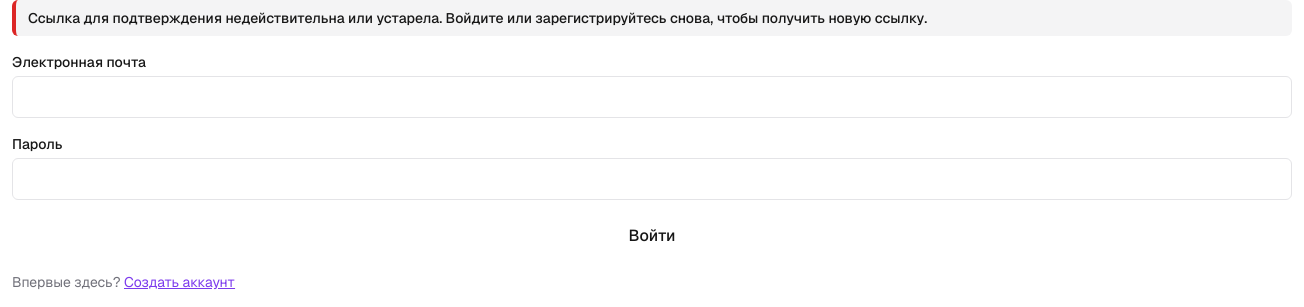
Test: SignInForm › shows the initial error until the first submission replaces it
The width and height of the screenshot is (1304, 307).
Expected: the message shows "Ссылка для подтверждения недействительна или устарела. Войдите или зарегистрируйтесь снова, чтобы получить новую ссылку.", [28, 9, 927, 27]
Type "reader@example.com" into the field labelled "Электронная почта".
click(652, 97); type("reader@example.com")  # box [12, 76, 1292, 118]
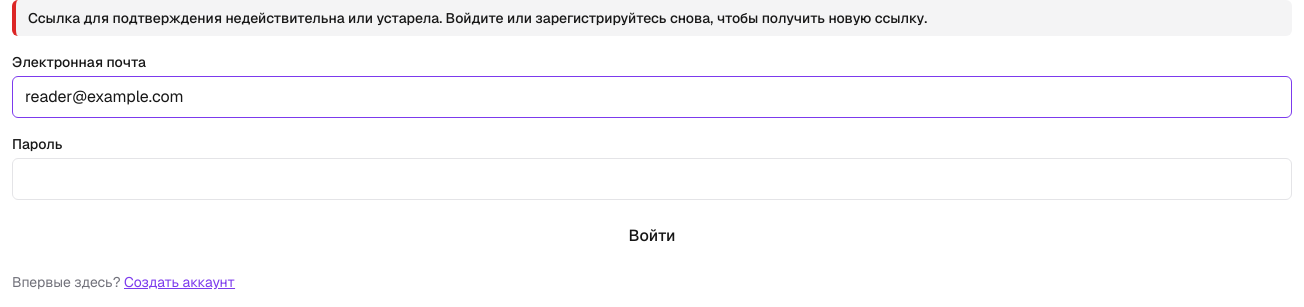
Type "secret-password-1" into the password field labelled "Пароль".
click(652, 179); type("secret-password-1")  # box [12, 158, 1292, 200]
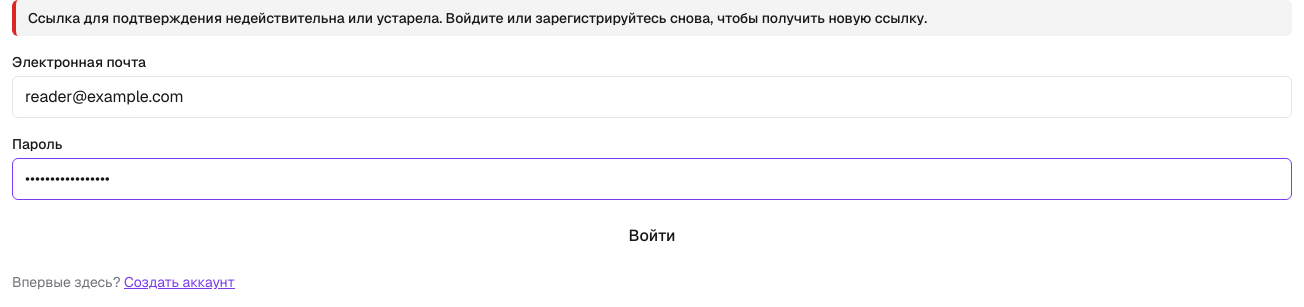
Click the button "Войти".
click(652, 236)  # box [12, 216, 1292, 256]
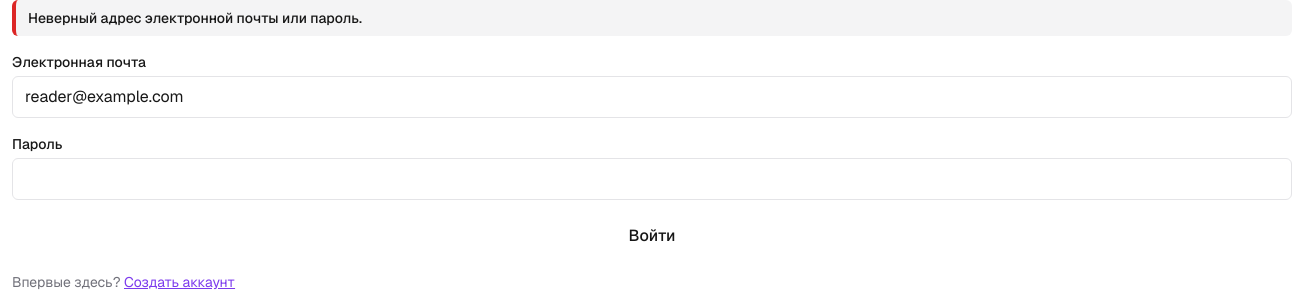
Now the message reads "Неверный адрес электронной почты или пароль.", box [28, 9, 362, 27]
